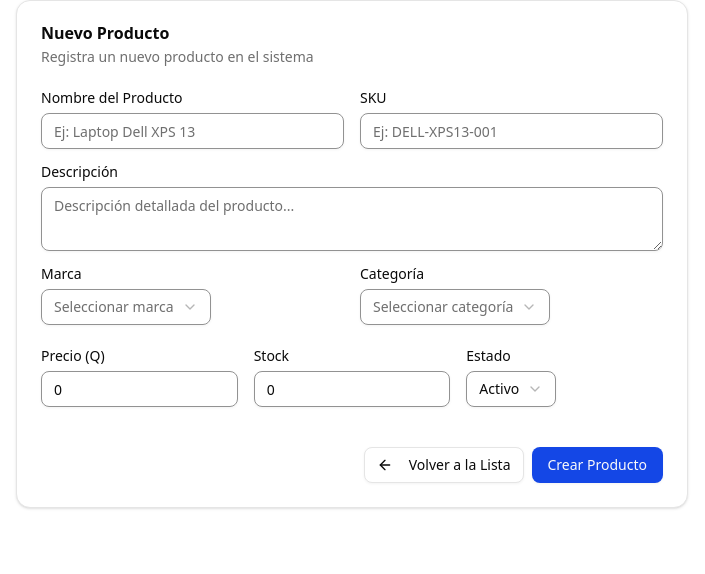
ProductForm › explains each missing field next to it and sends nothing
In the field labelled "Nombre del Producto": (192, 131) [41,113,344,149], type "Cable HDMI"
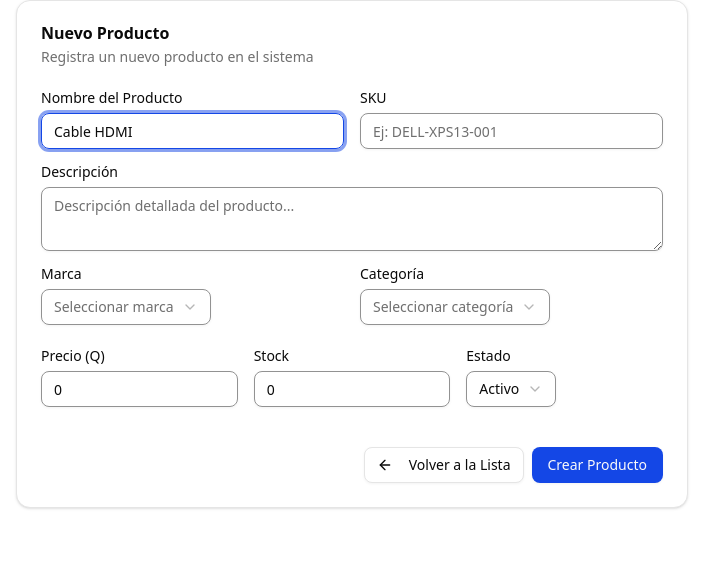
Click the button "Crear Producto": (597, 465) [532,447,663,483]
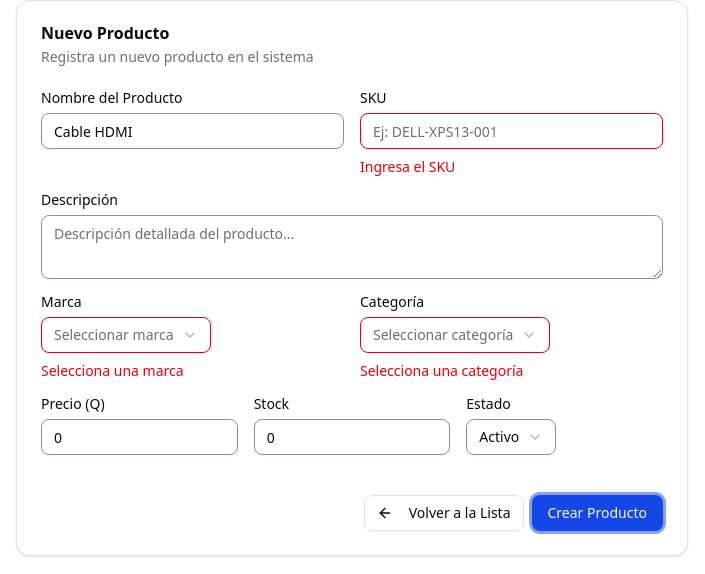
expect the text "Ingresa el SKU" is shown: met, box [360,157,455,176]
expect the text "Selecciona una marca" is shown: met, box [41,361,184,380]
expect the text "Selecciona una categoría" is shown: met, box [360,361,523,380]
